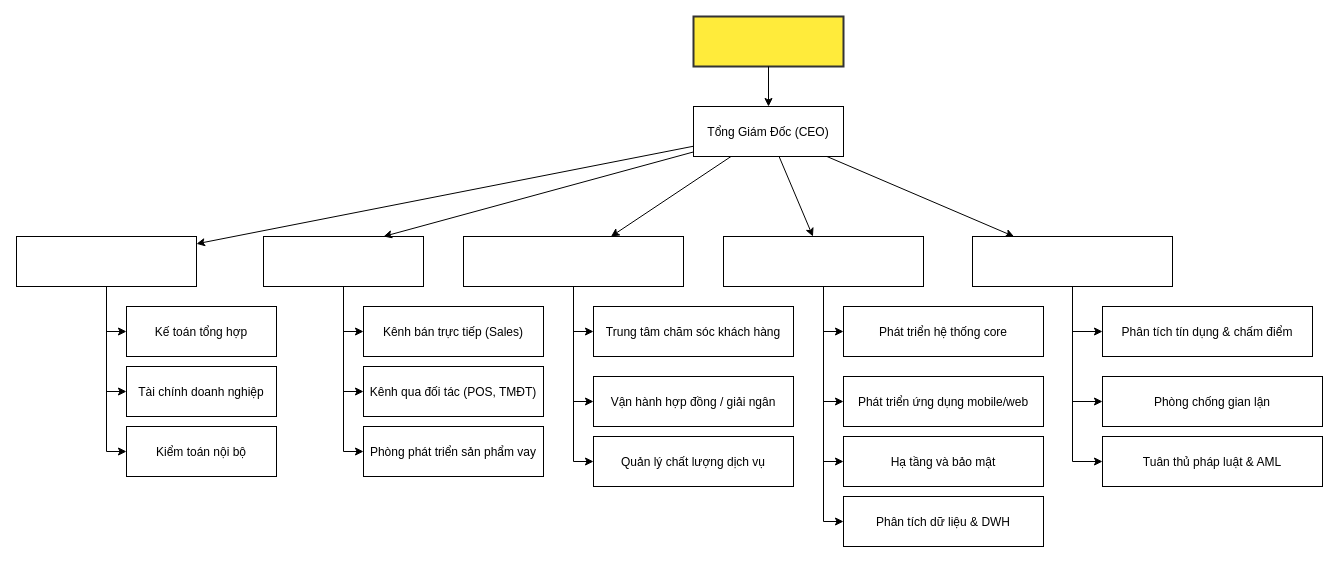
The diagram is 1339 pixels wide and 563 high, and some of its shapes have lost their labels. The box of each missing label's shape, as (x1, y1, x2, y2) in pixels:
Hội đồng Quản Trị: (692, 15, 844, 67)
Phó TGĐ Chi nhánh & DV Khách hàng: (462, 236, 684, 286)
Phó TGĐ Công nghệ thông tin (CIO): (722, 236, 924, 286)
Phó TGĐ Kinh doanh: (262, 236, 424, 286)
Phó TGĐ Rủi ro & Tuân thủ: (972, 236, 1172, 286)
Phó TGĐ Tài chính & Kế toán: (16, 236, 196, 286)
